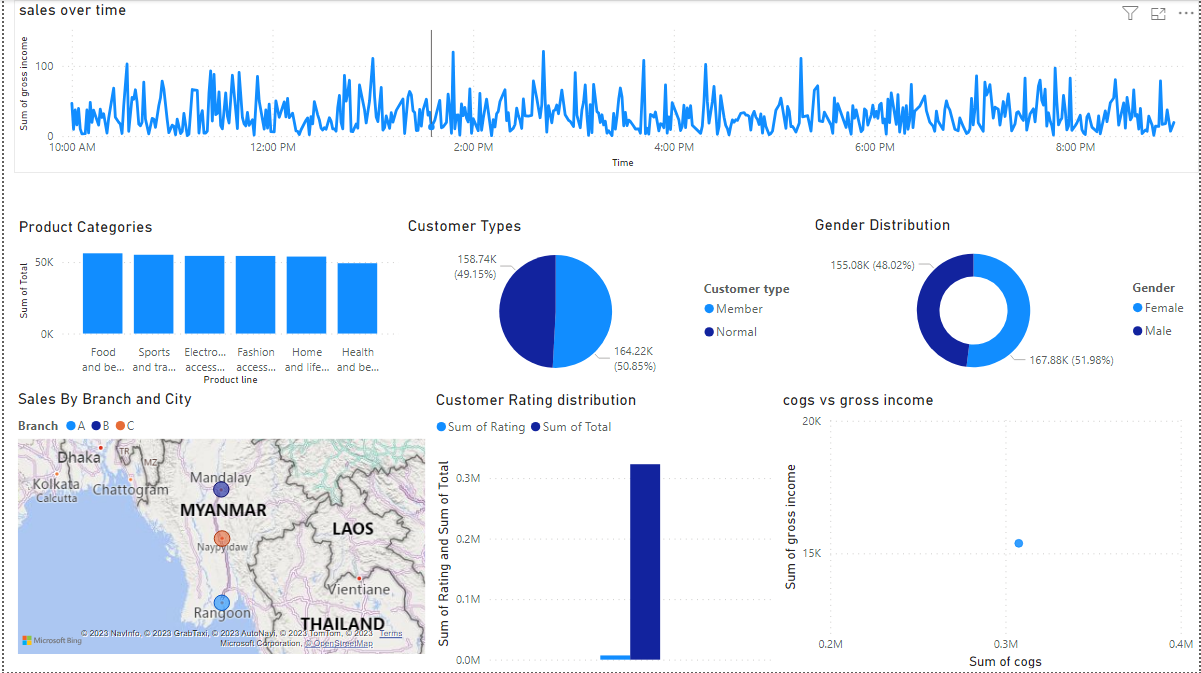

What the dashboard file says about the page in this screenshot:
{"tool":"powerbi","page":{"name":"Page 1","canvas":[1280,720],"ordinal":0},"visuals":[{"type":"lineChart","title":"sales over time","fields":{"Category":["supermarket_sales - Sheet1.Time"],"Y":["Sum(supermarket_sales - Sheet1.gross income)"]},"box":[10.3,0,1269.7,184.9],"z":0},{"type":"columnChart","title":"Product Categories","fields":{"Category":["supermarket_sales - Sheet1.Product line"],"Y":["Sum(supermarket_sales - Sheet1.Total)"]},"box":[10.3,232.4,417.3,184.9],"z":1000},{"type":"pieChart","title":"Customer Types","fields":{"Category":["supermarket_sales - Sheet1.Customer type"],"Y":["Sum(supermarket_sales - Sheet1.Total)"]},"box":[427.4,231.8,436.2,185.7],"z":2000},{"type":"donutChart","title":"Gender Distribution","fields":{"Category":["supermarket_sales - Sheet1.Gender"],"Y":["Sum(supermarket_sales - Sheet1.Total)"]},"box":[863.6,230.7,416.4,185.7],"z":3000},{"type":"map","title":"Sales By Branch and City","fields":{"Series":["supermarket_sales - Sheet1.Branch"],"Category":["supermarket_sales - Sheet1.City"],"Size":["Sum(supermarket_sales - Sheet1.Total)"]},"box":[9.9,416.4,447.2,289],"z":4000},{"type":"clusteredColumnChart","title":"Customer Rating distribution","fields":{"Y":["Sum(supermarket_sales - Sheet1.Rating)","Sum(supermarket_sales - Sheet1.Total)"]},"box":[457.1,417.5,372.5,303.2],"z":5000},{"type":"scatterChart","title":"cogs vs gross income","fields":{"X":["Sum(supermarket_sales - Sheet1.cogs)"],"Y":["Sum(supermarket_sales - Sheet1.gross income)"]},"box":[829.5,417.5,450.5,303.2],"z":6000}]}

Visuals, with their boxes in screenshot pixels (x1, y1, x2, y2), scaled from the page's 1280x720 canvas onto the 1201x673 screenshot:
"sales over time" lineChart: bbox=(10, 0, 1200, 173)
"Product Categories" columnChart: bbox=(10, 217, 401, 390)
"Customer Types" pieChart: bbox=(401, 217, 810, 390)
"Gender Distribution" donutChart: bbox=(810, 216, 1200, 389)
"Sales By Branch and City" map: bbox=(9, 389, 429, 659)
"Customer Rating distribution" clusteredColumnChart: bbox=(429, 390, 778, 672)
"cogs vs gross income" scatterChart: bbox=(778, 390, 1200, 672)
